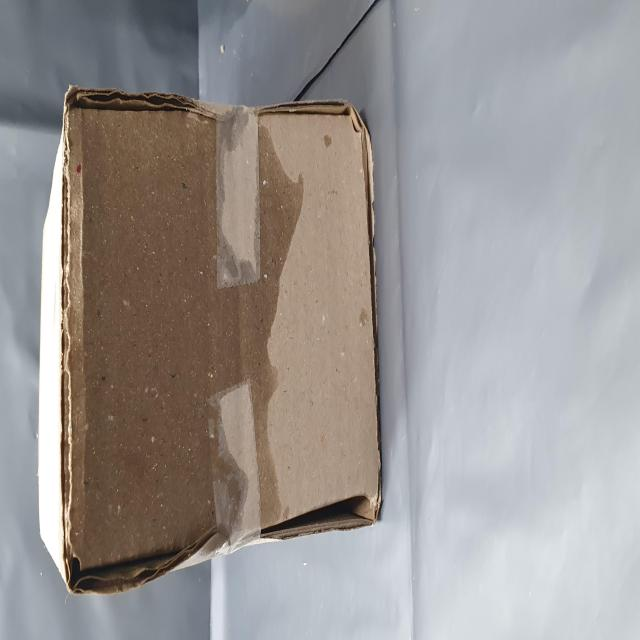wet: (37, 99, 307, 513)
